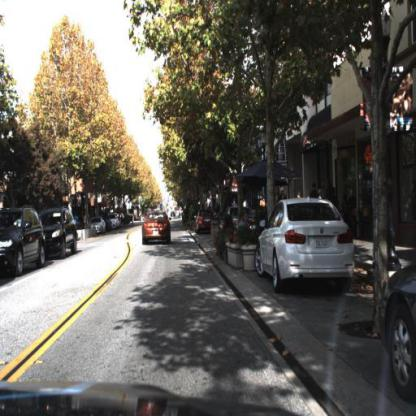car: (255, 196, 359, 292), (380, 258, 416, 407), (1, 204, 48, 277), (39, 206, 79, 260), (141, 211, 174, 249), (195, 208, 221, 238)
pedestrian: (326, 181, 339, 204), (310, 181, 319, 202), (237, 213, 246, 227), (259, 196, 266, 209), (74, 217, 80, 230), (296, 192, 303, 200)
